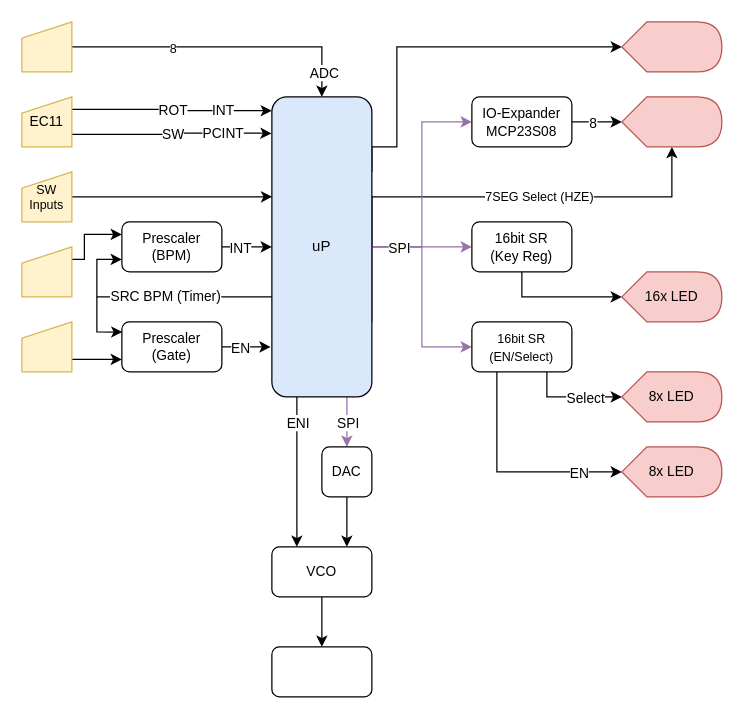
Image size: 744x719. Some labels were removed from this diagram. The box of each missing label's shape, as (x1, y1, x2, y2) in pixels:
12x PL9823-F5 (EC11-LEDS): (621, 21, 722, 72)
3x 7-Seg: (621, 96, 722, 147)
Audio Out: (271, 646, 372, 697)
BPM Scale: (21, 246, 72, 297)
Gate Scale: (21, 321, 72, 372)
Pot: (21, 21, 72, 72)
